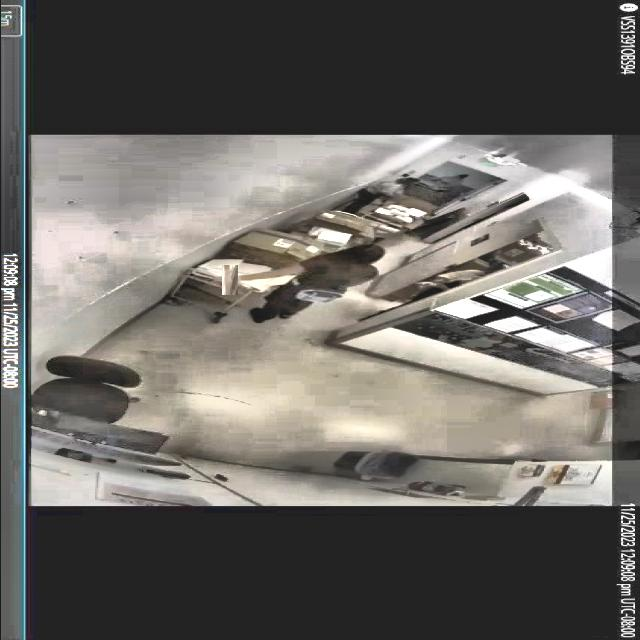not-gloved: (217, 268, 241, 292)
